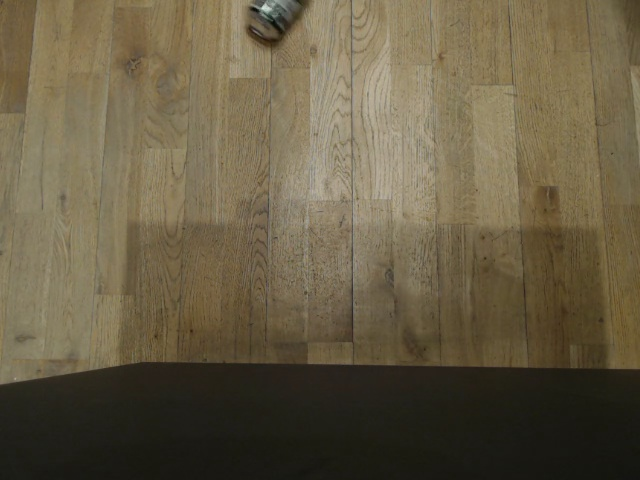beer: (242, 0, 306, 41)
